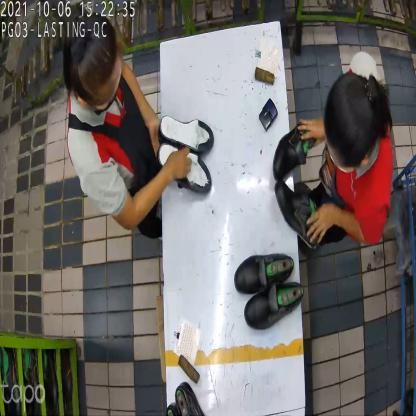shoes: (270, 124, 324, 254), (234, 250, 302, 332), (152, 112, 216, 197)
stamp: (258, 100, 278, 132), (172, 146, 189, 178)
